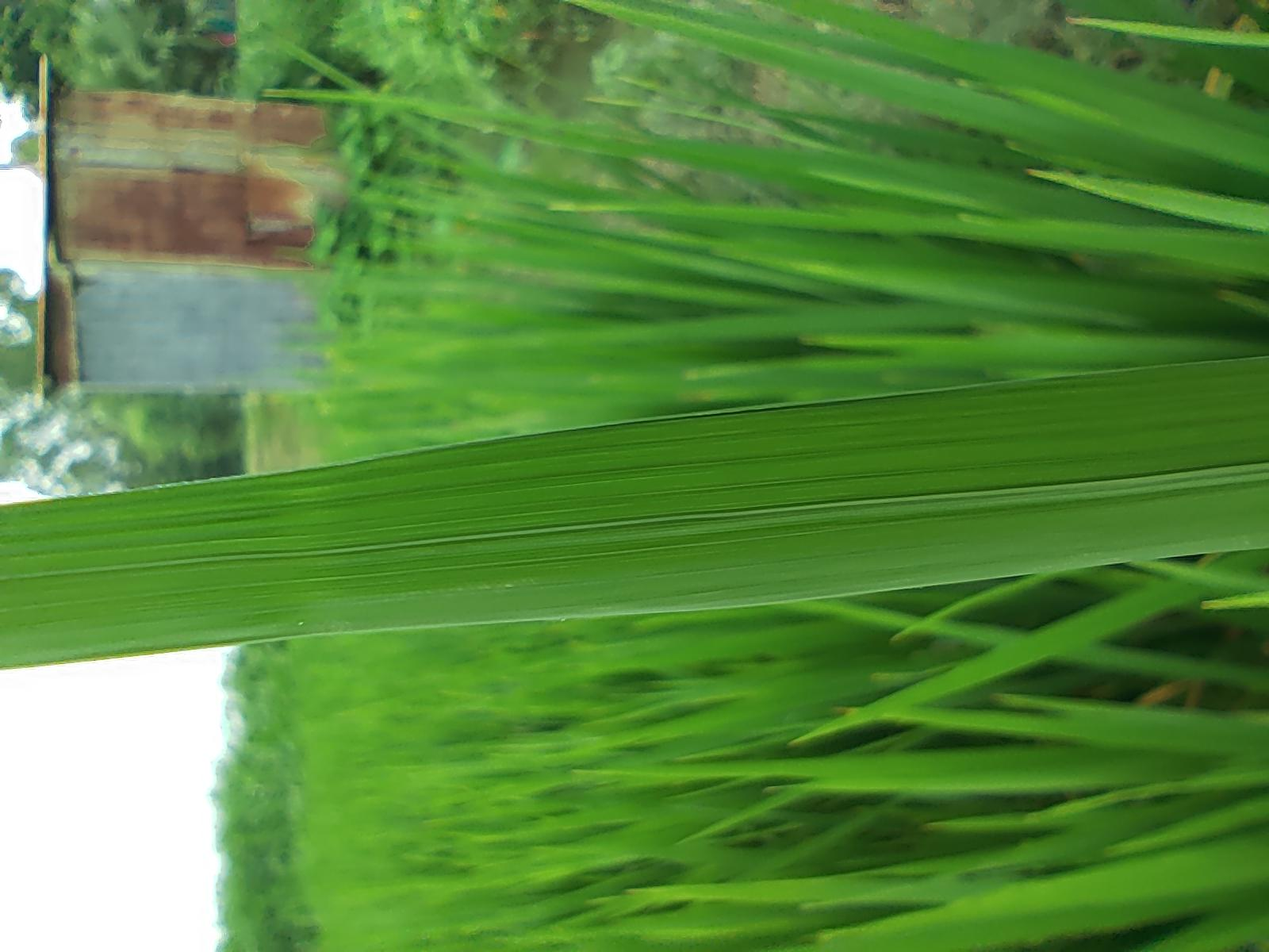Healthy: (378, 0, 792, 951)
